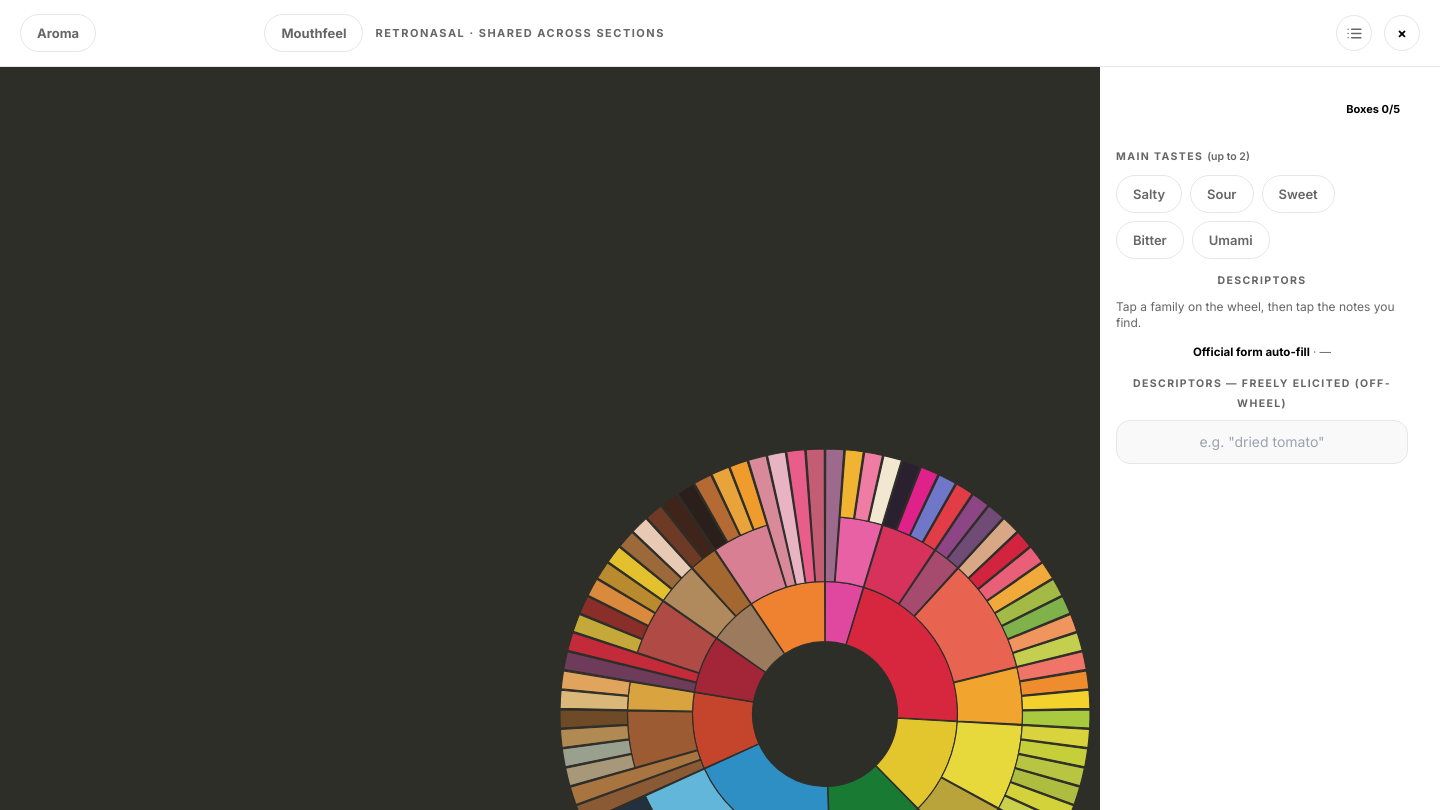
Test: DescribeOverlay › flavor & aftertaste group adds main tastes; mouthfeel group swaps the wheel for the CATA panel
This screenshot has width=1440, height=810.
Expected: the text "Main tastes (up to 2)" is shown, [1116,150,1250,163]
Click the tab "Mouthfeel". click: (314, 33)
box: [264,14,364,52]
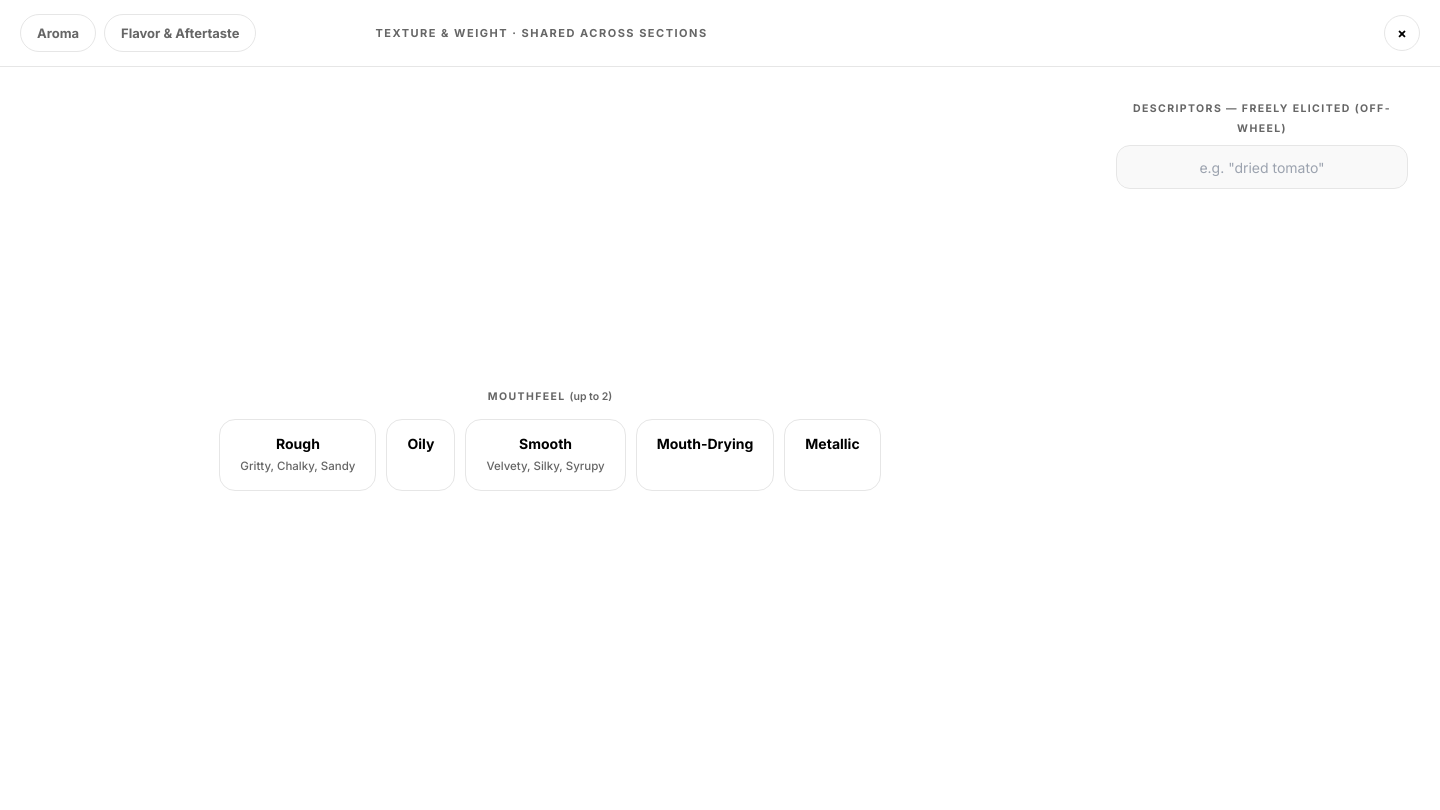
Expected: the element with test id "flavor-wheel-stage" is gone
Expected: the button "Mouth-Drying" is shown, [636,418,774,490]
